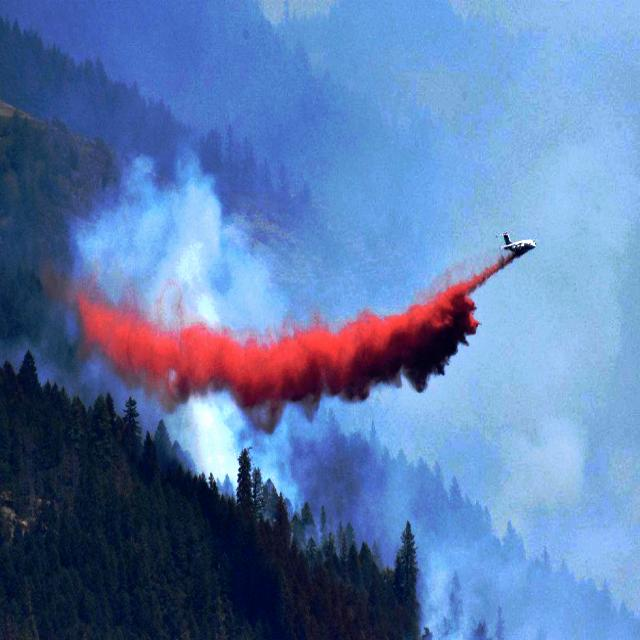asap: (45, 142, 314, 534), (358, 457, 640, 640)
